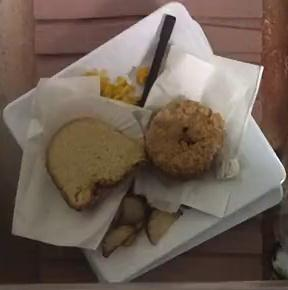dessert: (46, 117, 144, 210)
donut: (146, 100, 224, 179)
potato: (101, 192, 178, 255)
rice: (85, 70, 139, 104)
